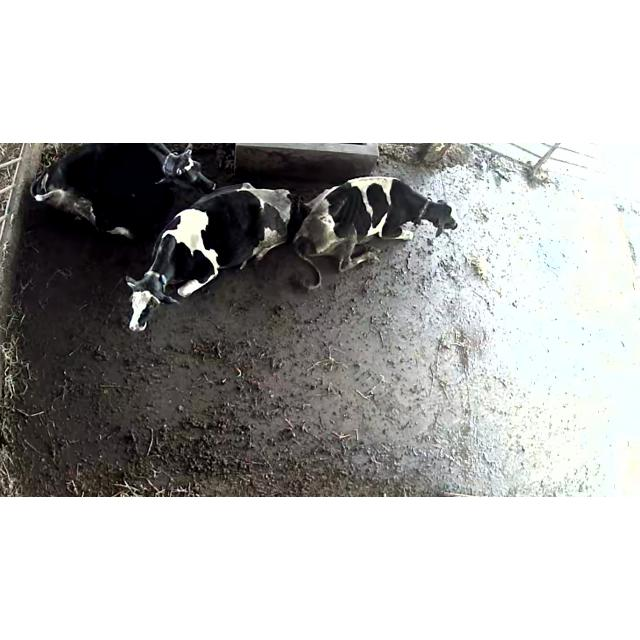lay: (125, 183, 302, 332), (292, 176, 459, 289), (30, 143, 215, 239)
